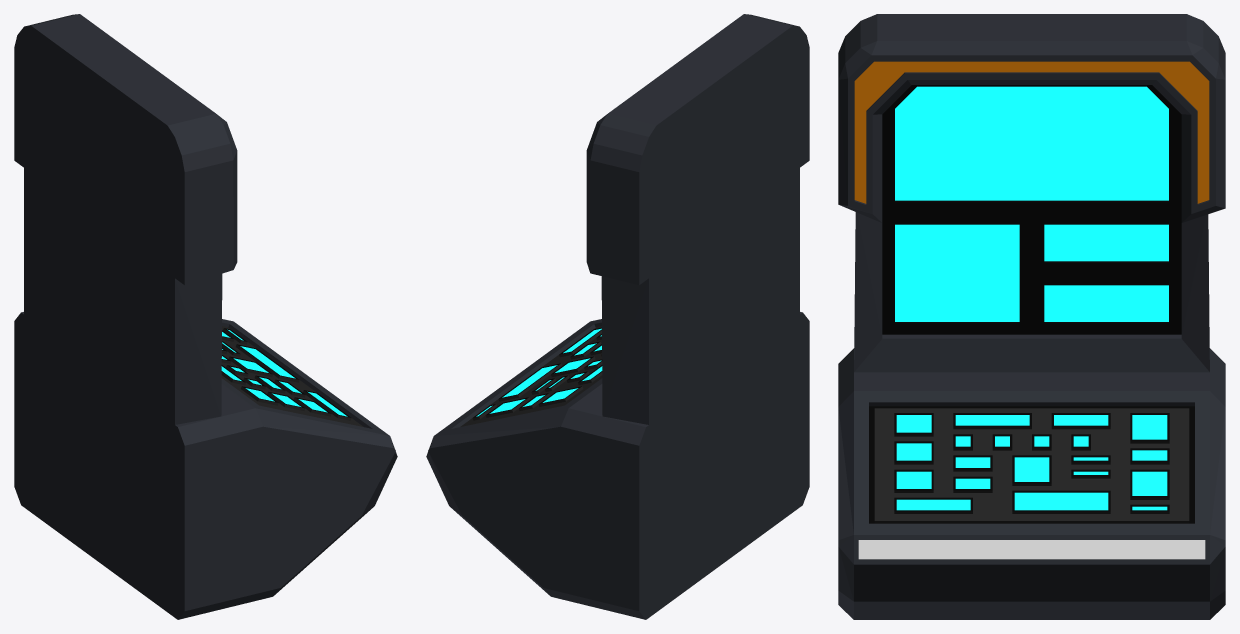
File: SM_Computer.fbx
3 views of the same model, side by side, from view 1: azimuth 30°, elevation 25°; view 2: azimuth 150°, elevation 25°; view 3: azimuth 270°, elevation 25° (orthographic). The views are drawn at different scales.
Visible parts, largest first — view 1: SM_Computer; view 2: SM_Computer; view 3: SM_Computer.
Part boxes in pixels (x1=…): SM_Computer: x1=14, y1=14, x2=397, y2=619; SM_Computer: x1=426, y1=14, x2=809, y2=619; SM_Computer: x1=838, y1=14, x2=1225, y2=619.
Size of the model in its own units: 47.25 by 100 by 63.44.
